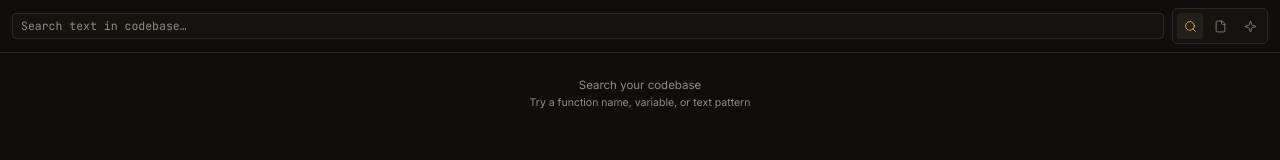
it: SearchPanel › runs a semantic search and shows results with relevance scores
The image size is (1280, 160).
Click the radio button named "Semantic": (1250, 26) [1237,13,1263,39]
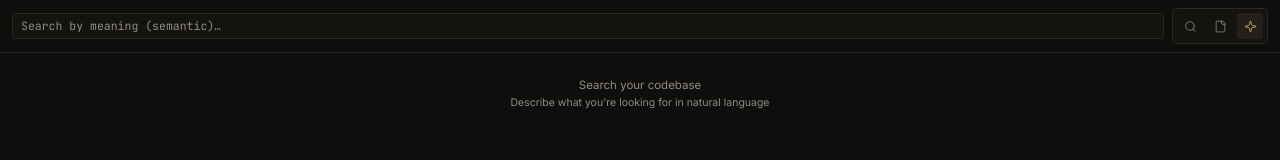
In the field: (588, 26) [12,13,1164,39], type "authenticate user"
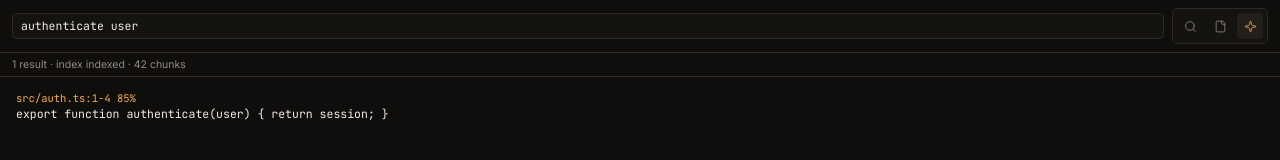
Now the text "src/auth.ts:1-4 85%" is shown, box [16,91,136,105]
Now the text "85%" is shown, box [117,91,136,105]
